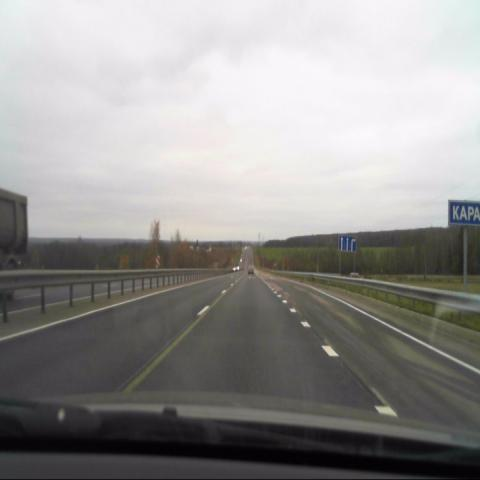5_15_1: (339, 235, 357, 253)
